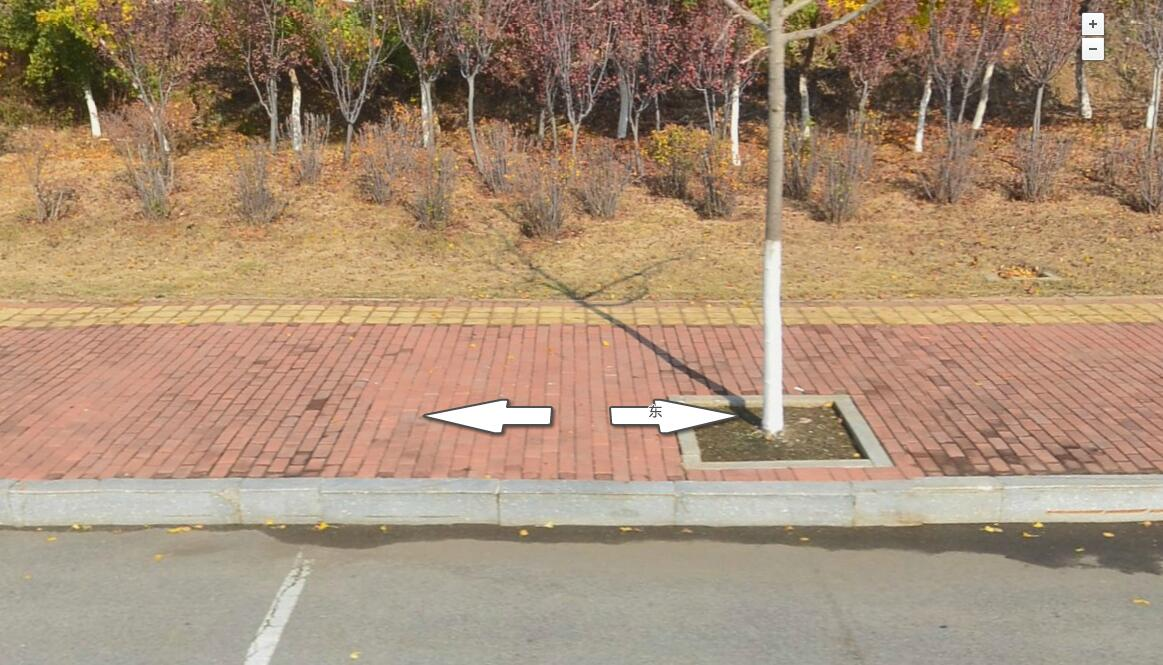side: (10, 481, 241, 524), (495, 481, 677, 527), (676, 480, 854, 527), (848, 477, 1005, 526)
